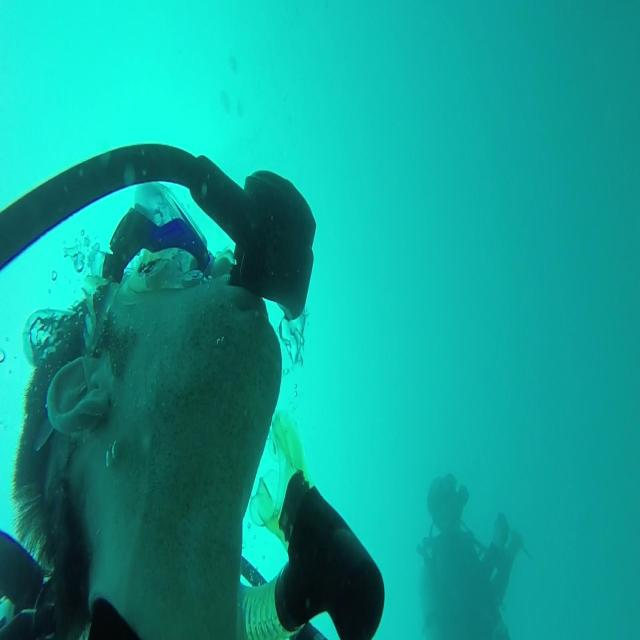human: (2, 147, 384, 638), (416, 472, 523, 638)
